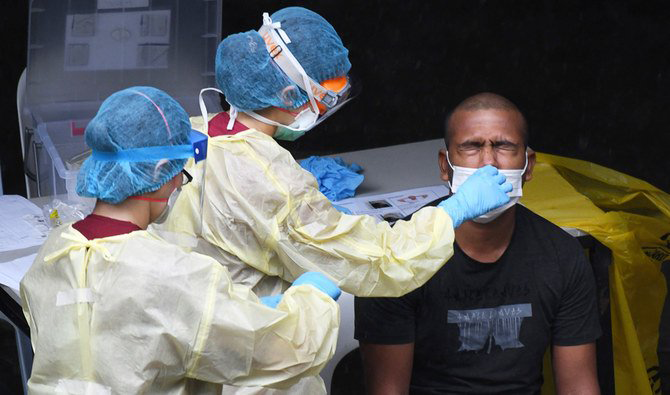Coverall: (9, 226, 239, 395), (178, 128, 362, 288)
Gloves: (436, 164, 511, 226), (290, 267, 342, 301)
mask_weared_incorrect: (451, 129, 523, 217)
